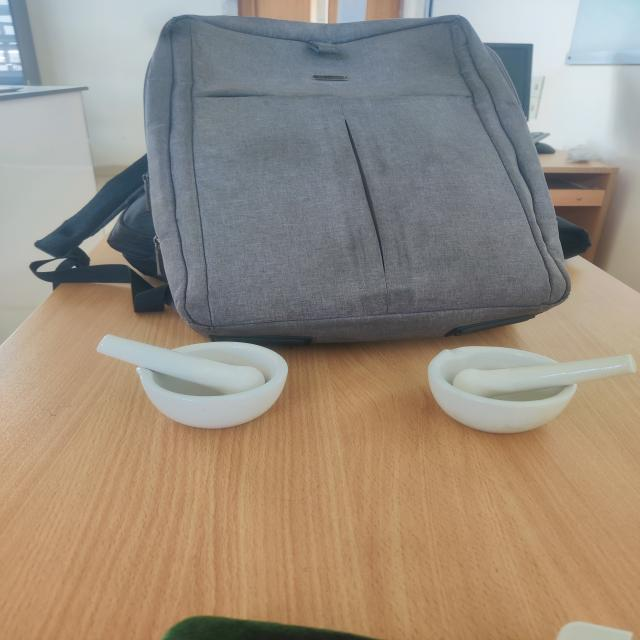Porcelain_Mortar Pestle: (73, 301, 333, 448), (414, 306, 640, 451)
